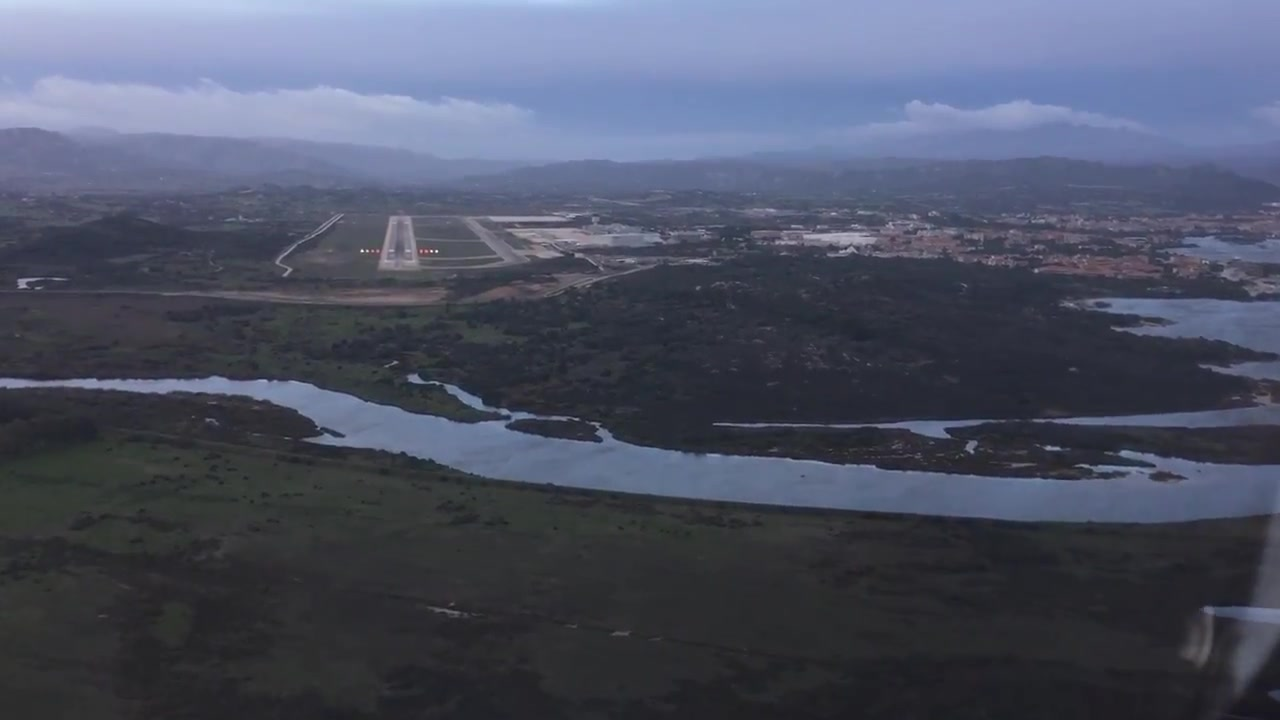runway: (379, 217, 421, 270)
